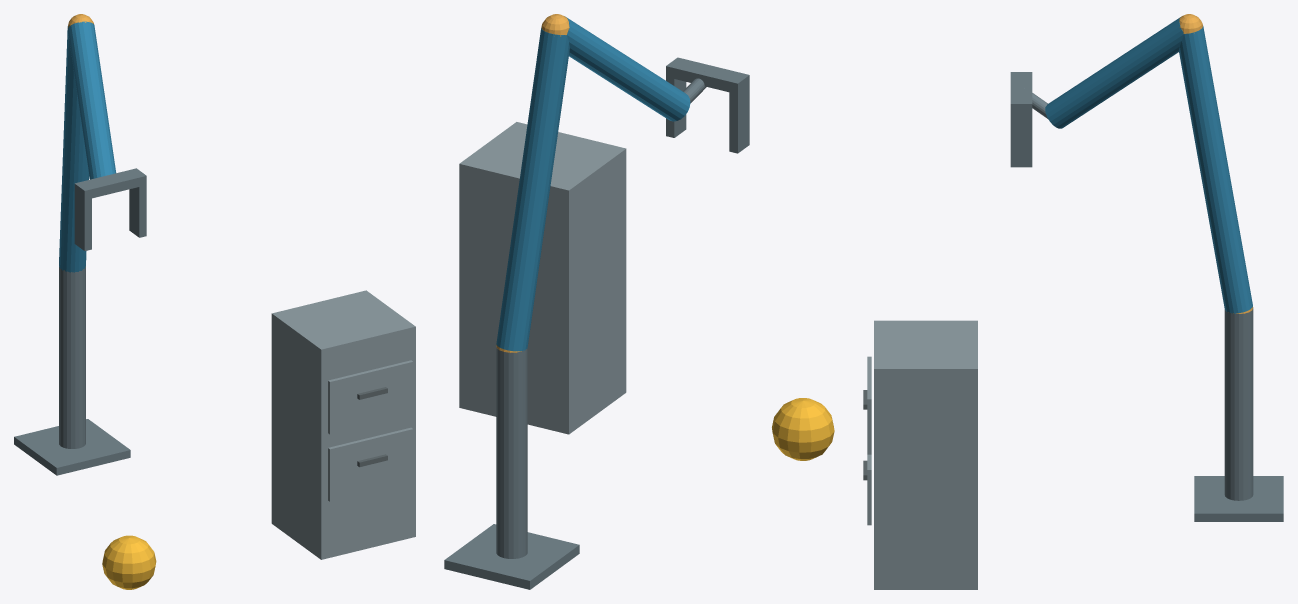
The picture shows the model from 3 angles, left to right: view 1: azimuth 30°, elevation 25°; view 2: azimuth 150°, elevation 25°; view 3: azimuth 270°, elevation 25°; orthographic projection. The views are drawn at different scales.
Parts seen in each view (by area): view 1: cabinet_1 body, fixed post, cabinet_1 drawer front.001, cabinet_1 drawer front, moving link 2, moving link 1, pedestal, ball ball_1, gripper bridge, gripper finger -1, gripper finger 1; view 2: cabinet_1 body, moving link 1, fixed post, pedestal, moving link 2, ball ball_1, gripper bridge, gripper finger -1, gripper finger 1; view 3: cabinet_1 body, moving link 1, fixed post, moving link 2, pedestal, gripper finger 1, gripper bridge.
Boxes of the visible parts, x1,y1,x2,y2 form: cabinet_1 body: [271, 290, 415, 559]; fixed post: [59, 267, 85, 448]; cabinet_1 drawer front.001: [328, 360, 413, 434]; cabinet_1 drawer front: [328, 427, 413, 501]; moving link 2: [67, 21, 116, 179]; moving link 1: [59, 26, 89, 272]; pedestal: [14, 419, 130, 475]; ball ball_1: [102, 535, 156, 589]; gripper bridge: [74, 168, 146, 199]; gripper finger -1: [74, 193, 91, 250]; gripper finger 1: [129, 185, 146, 237]; cabinet_1 body: [459, 122, 626, 434]; moving link 1: [496, 28, 569, 351]; fixed post: [496, 347, 527, 558]; pedestal: [444, 524, 579, 589]; moving link 2: [565, 16, 690, 121]; ball ball_1: [772, 398, 834, 460]; gripper bridge: [666, 57, 749, 94]; gripper finger -1: [729, 86, 749, 153]; gripper finger 1: [666, 77, 686, 137]; cabinet_1 body: [874, 320, 977, 589]; moving link 1: [1179, 26, 1252, 313]; fixed post: [1224, 308, 1253, 500]; moving link 2: [1045, 17, 1184, 128]; pedestal: [1194, 476, 1283, 521]; gripper finger 1: [1010, 113, 1032, 167]; gripper bridge: [1010, 72, 1032, 113].
Size of the model in its own units: 0.9825 by 1.48 by 1.17.
